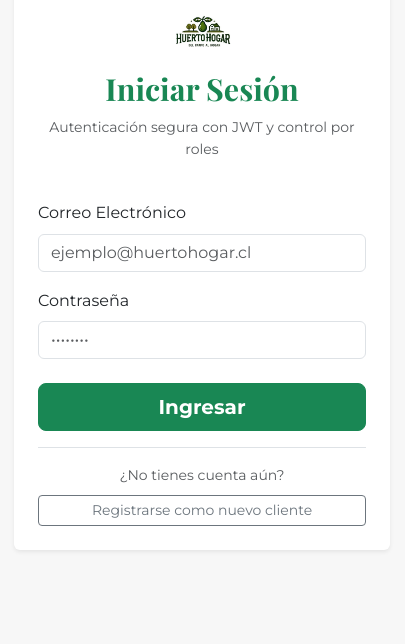
Test: Pruebas reales de Autenticación JWT, Sesión y Control de Roles › Login muestra alerta de error del backend solo cuando fallan credenciales
This screenshot has width=405, height=644.
Type "mal@huertohogar.cl" into the field labelled "Correo Electrónico" at x=202, y=253, box top-left (38, 234), bottom-right (366, 272)
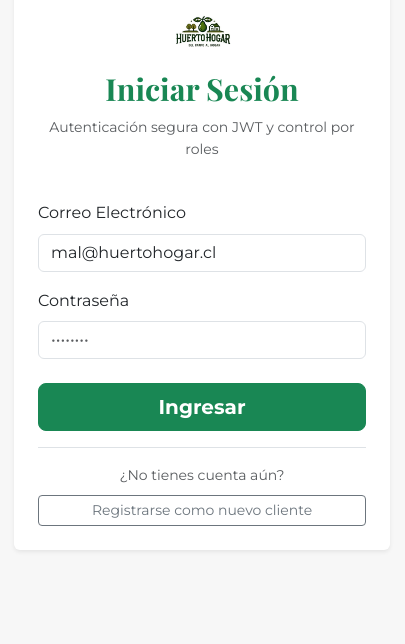
Type "incorrecta" into the password field labelled "Contraseña" at x=202, y=340, box top-left (38, 322), bottom-right (366, 360)
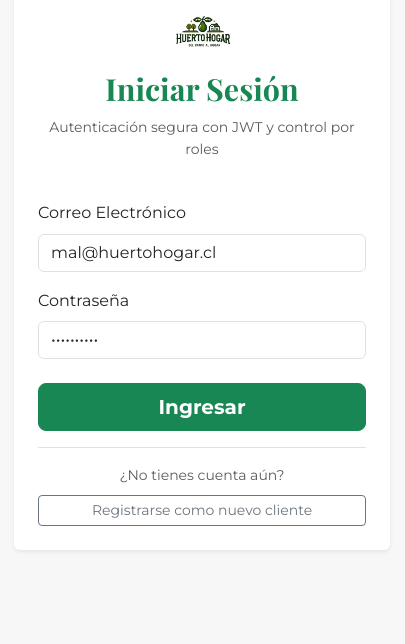
Click the button "Ingresar" at x=202, y=408, box top-left (38, 384), bottom-right (366, 432)
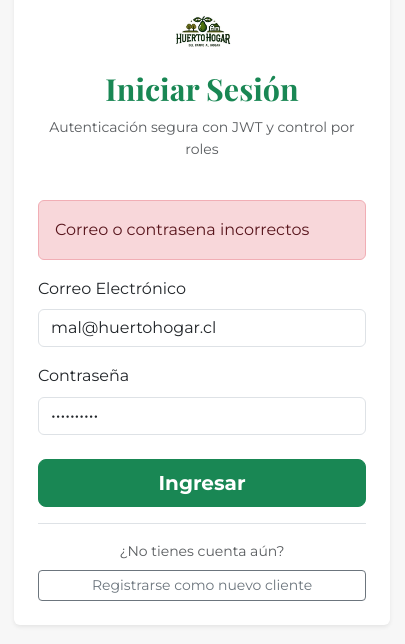
Expected: the message reads "Correo o contrasena incorrectos", top-left (55, 220), bottom-right (309, 239)
